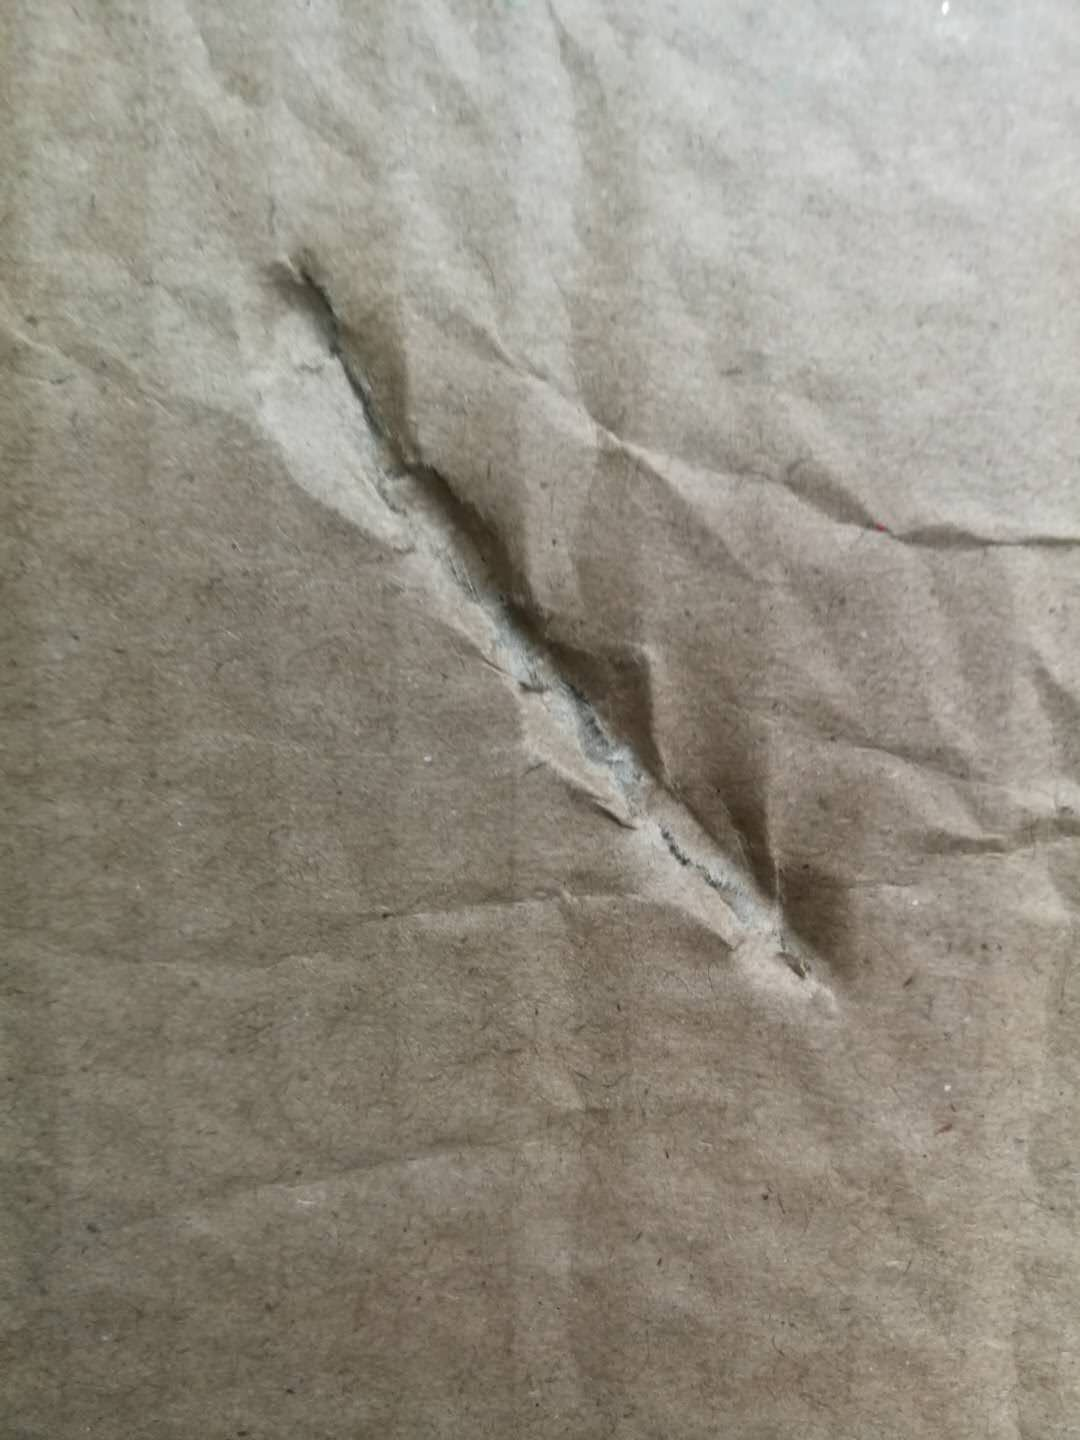defect: (106, 170, 1080, 1084)
